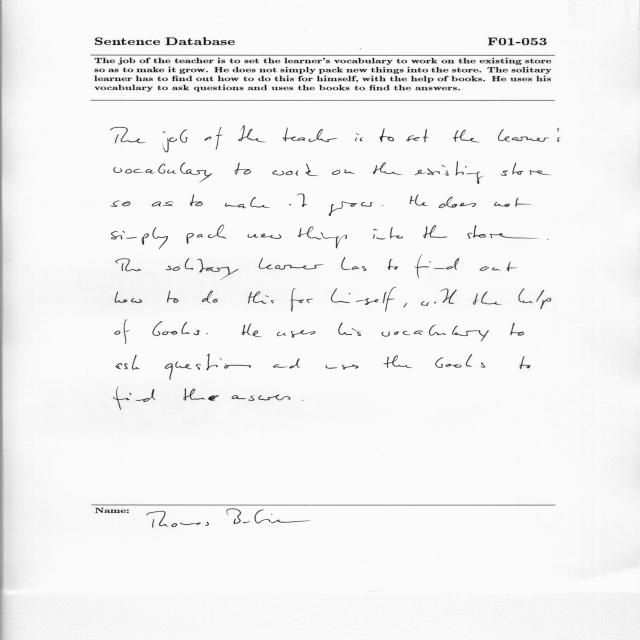word: (165, 354, 251, 380), (114, 163, 212, 183), (382, 325, 489, 342), (166, 258, 239, 280), (415, 161, 484, 184), (331, 288, 396, 312), (111, 227, 168, 250), (298, 227, 347, 249), (415, 254, 459, 278), (114, 387, 156, 410), (498, 128, 561, 142), (283, 128, 337, 143), (187, 225, 227, 244), (152, 321, 200, 336), (259, 258, 324, 269), (435, 354, 485, 368), (519, 289, 552, 310), (501, 163, 551, 176), (329, 202, 374, 216), (162, 129, 188, 153), (421, 289, 457, 306), (273, 163, 319, 176), (111, 127, 146, 143), (291, 288, 313, 312), (225, 197, 270, 208), (238, 126, 266, 143), (183, 388, 219, 401), (204, 127, 223, 150), (439, 197, 476, 208), (373, 162, 403, 175), (473, 292, 502, 305), (384, 355, 413, 368), (373, 227, 403, 239), (115, 320, 130, 344), (116, 355, 140, 370), (453, 130, 480, 143), (248, 291, 275, 304), (342, 257, 367, 271), (480, 262, 517, 271), (423, 225, 448, 238), (116, 259, 141, 272), (494, 198, 530, 207), (338, 322, 361, 336), (277, 330, 315, 338), (115, 292, 142, 303), (407, 129, 429, 142), (273, 359, 300, 369), (467, 225, 486, 239), (242, 324, 262, 337), (490, 234, 537, 239), (290, 194, 308, 207), (409, 195, 428, 206), (202, 291, 218, 304), (258, 395, 291, 401), (380, 128, 394, 142), (235, 163, 251, 175), (510, 323, 524, 336), (248, 234, 282, 239), (326, 365, 359, 370), (190, 194, 203, 206), (520, 356, 531, 369), (111, 200, 131, 207), (232, 395, 255, 401), (167, 291, 178, 303), (152, 201, 173, 207), (332, 170, 354, 175), (388, 259, 398, 270), (355, 134, 363, 142), (403, 303, 407, 308), (206, 333, 208, 334), (382, 205, 383, 206)
